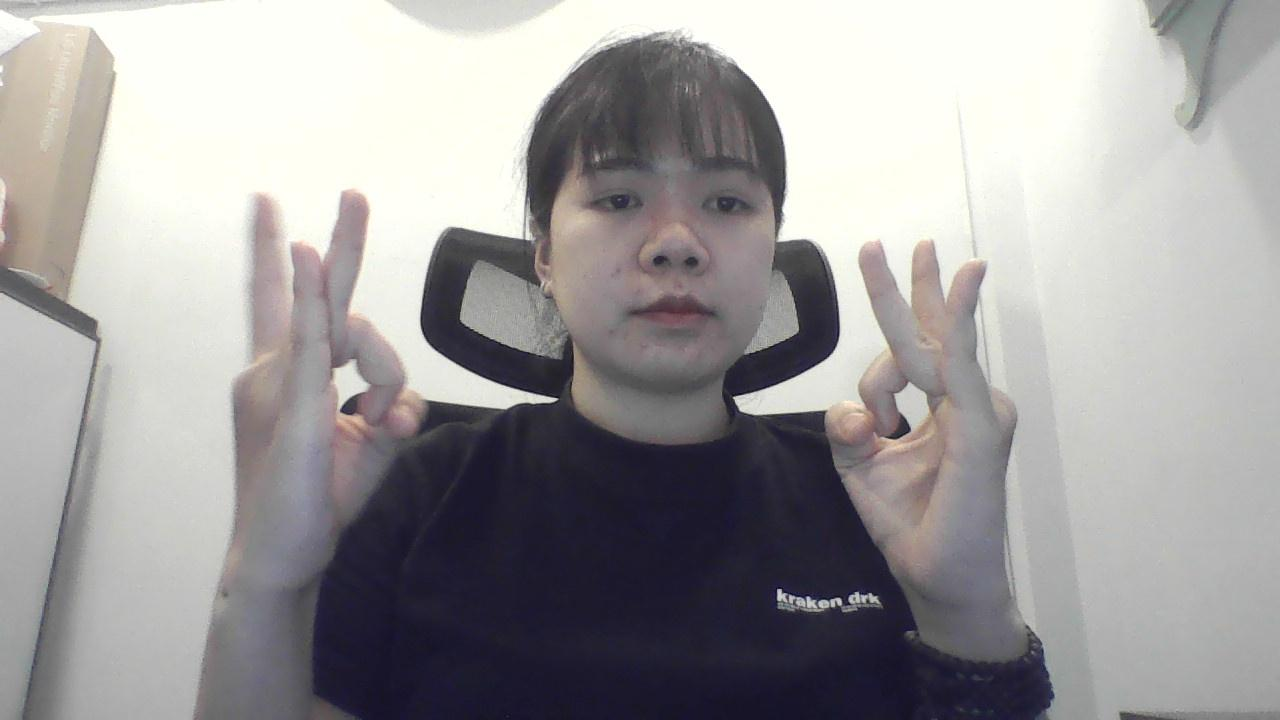H: (207, 174, 440, 623), (819, 226, 1033, 622)
